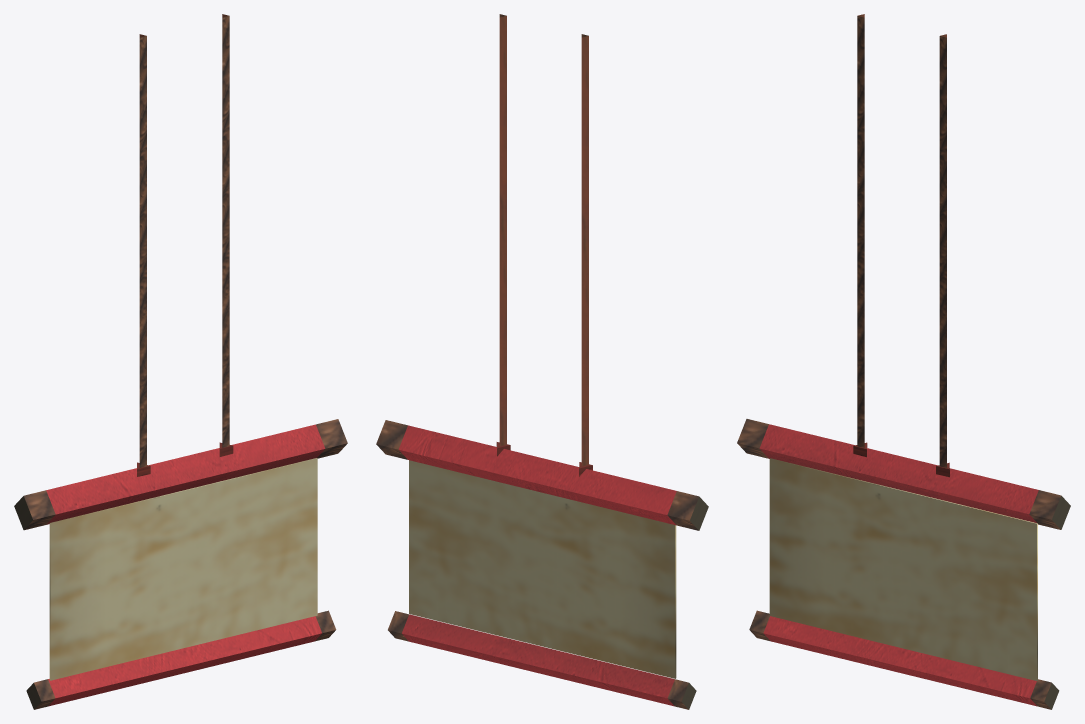
The model's file is polygonalmind-lunar-year-037.glb.
The picture shows the model from 3 angles, left to right: view 1: azimuth 30°, elevation 25°; view 2: azimuth 150°, elevation 25°; view 3: azimuth 330°, elevation 25°; orthographic projection.
Visible parts, largest first — view 1: Poster01; view 2: Poster01; view 3: Poster01.
Boxes of the visible parts, bbox=[...] form: Poster01: bbox=[14, 14, 347, 709]; Poster01: bbox=[376, 14, 708, 709]; Poster01: bbox=[737, 14, 1070, 709].
Size of the model in its own units: 2.66 by 5.25 by 0.2808.
2 materials, 2 textured.
